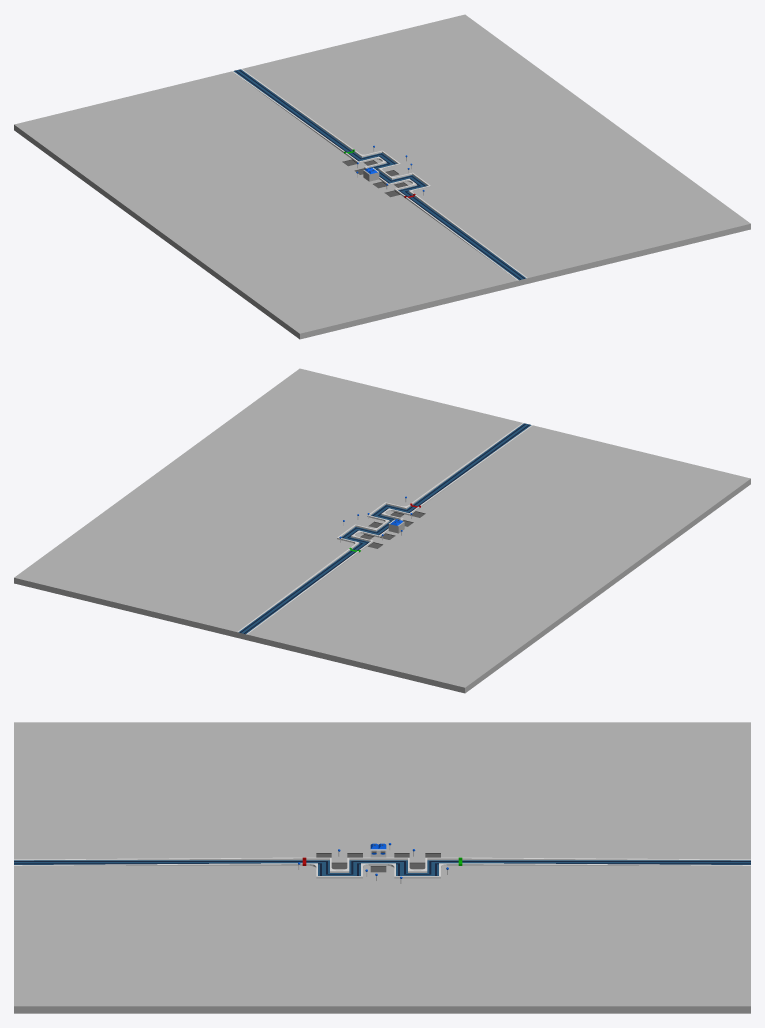
File: Stage2.fbx
3 views of the same model, one above another, from view 1: azimuth 30°, elevation 25°; view 2: azimuth 150°, elevation 25°; view 3: azimuth 270°, elevation 25° (orthographic). The views are drawn at different scales.
Parts seen in each view (by area): view 1: Cube; view 2: Cube; view 3: Cube.
Boxes of the visible parts, x1,y1,x2,y2 form: Cube: (14, 14, 750, 339); Cube: (14, 368, 750, 693); Cube: (14, 722, 750, 1013).
Size of the model in its own units: 16400 by 500 by 18000.
